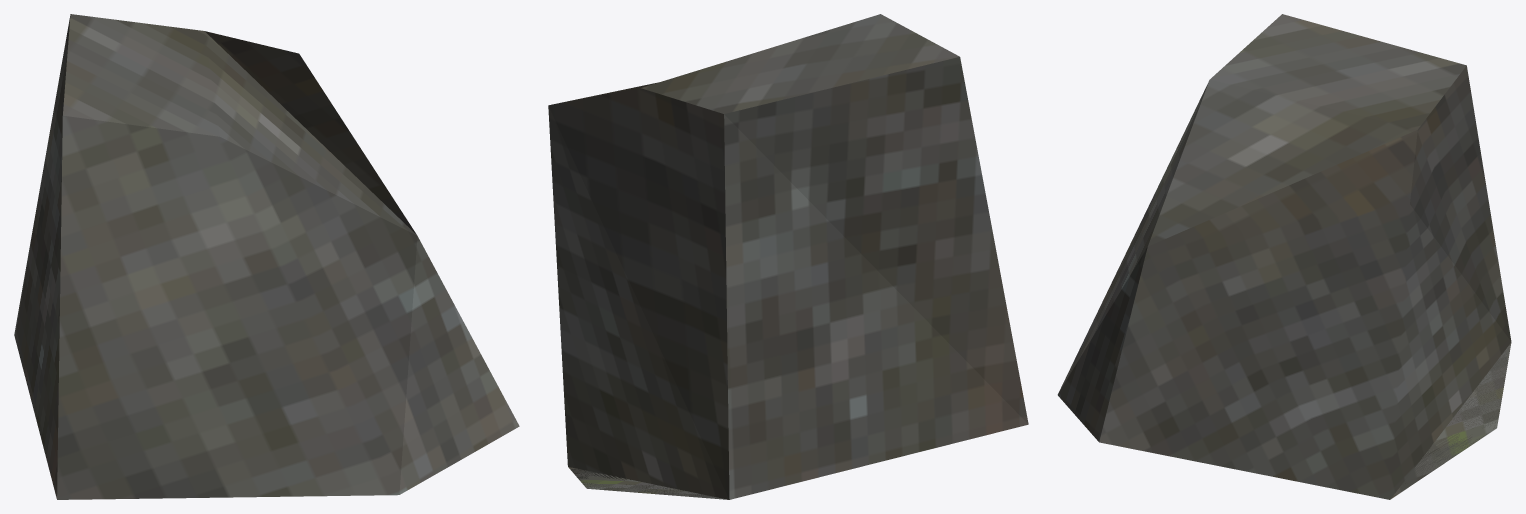
File: pedra_variacao.fbx
3 views of the same model, side by side, from view 1: azimuth 30°, elevation 25°; view 2: azimuth 150°, elevation 25°; view 3: azimuth 270°, elevation 25° (orthographic). The views are drawn at different scales.
Parts seen in each view (by area): view 1: Icosphere.002; view 2: Icosphere.002; view 3: Icosphere.002.
Boxes of the visible parts, x1,y1,x2,y2 form: Icosphere.002: [14, 14, 519, 499]; Icosphere.002: [548, 14, 1028, 499]; Icosphere.002: [1057, 14, 1511, 499].
Bounding box in the file's own units: 384 × 389 × 448.
